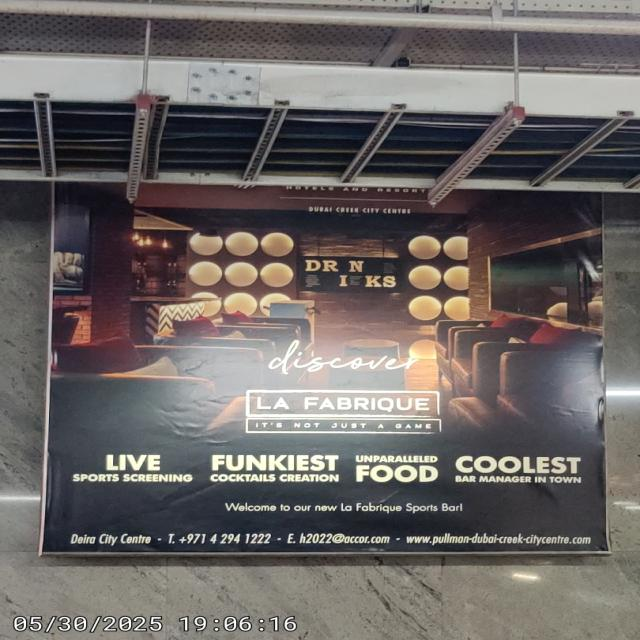poster: (40, 188, 609, 550)
